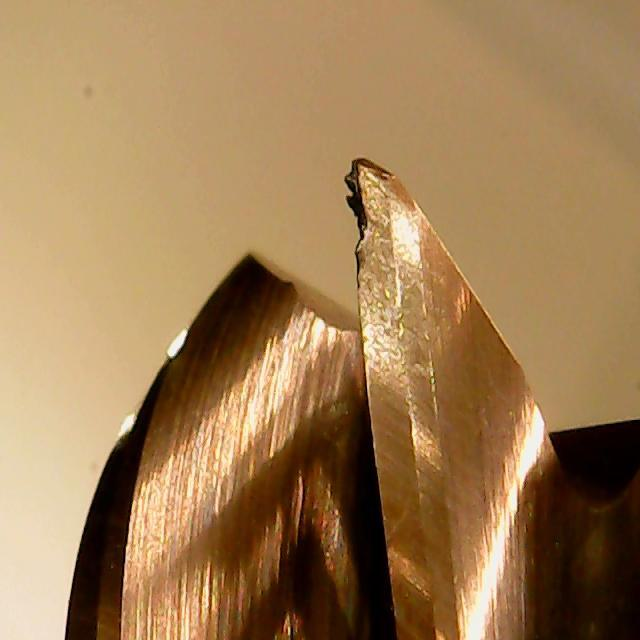Tool-wear-class-1: (331, 162, 456, 388)
